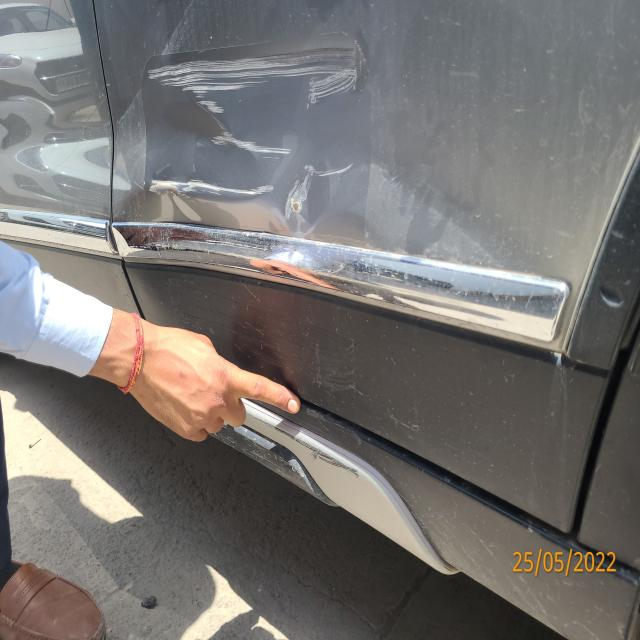damage: (109, 15, 395, 244), (219, 249, 297, 403)
